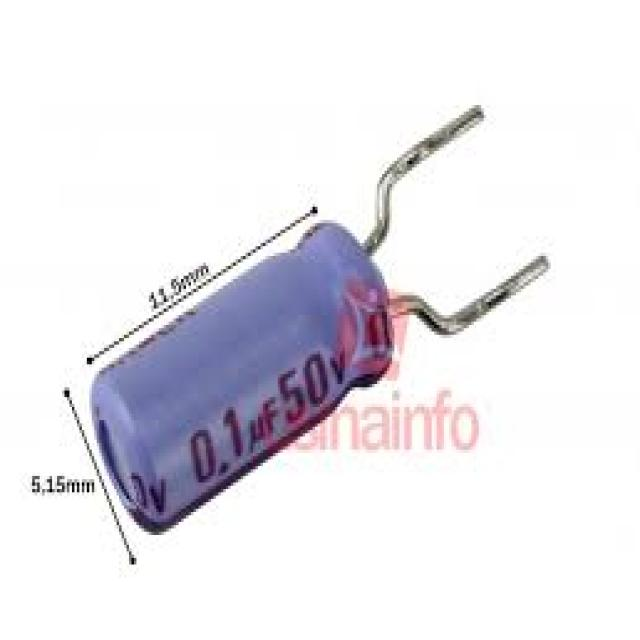Capacitor: (84, 105, 551, 568)
